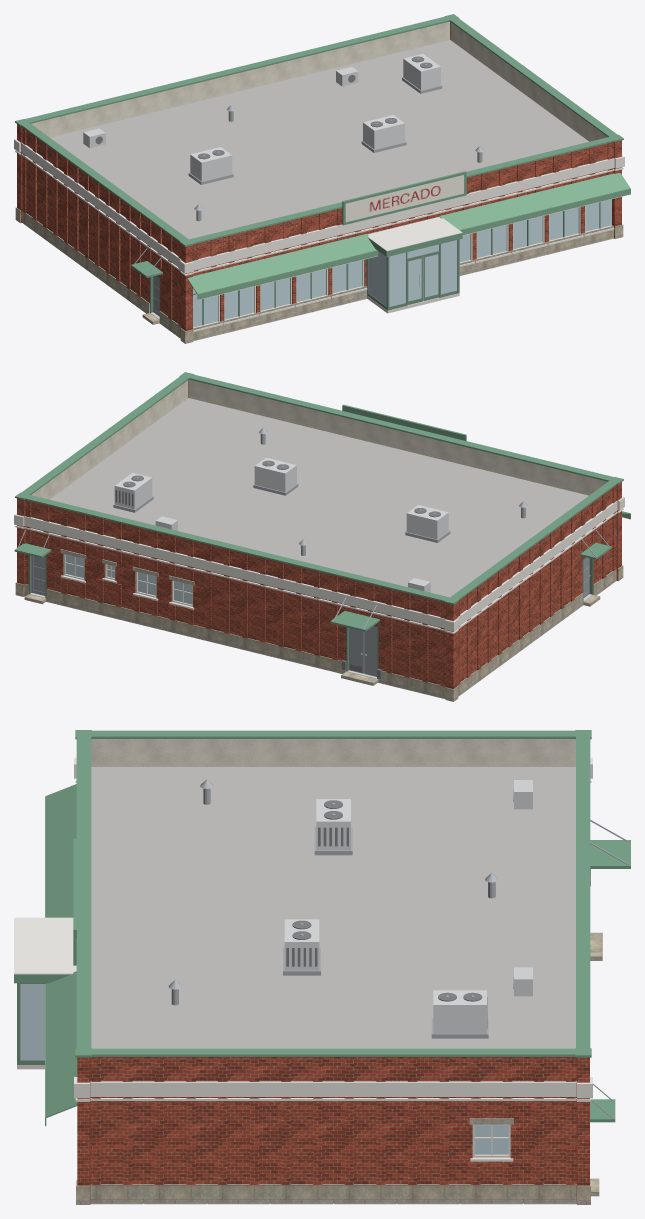
The model's file is building_assembled.glb.
3 views of the same model, one above another, from view 1: azimuth 30°, elevation 25°; view 2: azimuth 150°, elevation 25°; view 3: azimuth 270°, elevation 25° (orthographic). The views are drawn at different scales.
Visible parts, largest first — view 1: building_roof, building_brick, building_trim, building_glass, building_plaster, building_coping, building_canvas, building_stone, building_unit, building_sign, building_frame2, building_frame (+3 smaller); view 2: building_roof, building_brick, building_coping, building_plaster, building_trim, building_stone, building_unit, building_door, building_glass, building_steel, building_dark, building_frame (+2 smaller); view 3: building_roof, building_brick, building_coping, building_plaster, building_trim, building_stone, building_canvas, building_unit, building_glass, building_steel, building_dark, building_metal.
Boxes of the visible parts, <box> form: building_roof: <box>50,40,588,239</box>; building_brick: <box>17,22,621,330</box>; building_trim: <box>14,138,630,331</box>; building_glass: <box>193,199,611,327</box>; building_plaster: <box>31,21,613,341</box>; building_coping: <box>15,14,623,277</box>; building_canvas: <box>187,172,630,299</box>; building_stone: <box>15,207,623,343</box>; building_unit: <box>190,54,440,181</box>; building_sign: <box>345,175,464,222</box>; building_frame2: <box>150,202,600,325</box>; building_frame: <box>193,205,612,328</box>; building_roof: <box>50,398,588,597</box>; building_brick: <box>17,380,621,688</box>; building_coping: <box>14,372,623,631</box>; building_plaster: <box>31,379,607,699</box>; building_trim: <box>14,497,630,633</box>; building_stone: <box>15,549,623,701</box>; building_unit: <box>114,457,448,539</box>; building_door: <box>31,556,589,676</box>; building_glass: <box>65,555,192,604</box>; building_steel: <box>17,427,609,628</box>; building_dark: <box>115,460,440,678</box>; building_frame: <box>63,554,192,606</box>; building_roof: <box>91,767,575,1048</box>; building_brick: <box>77,1057,589,1203</box>; building_coping: <box>14,730,630,1122</box>; building_plaster: <box>91,739,576,1204</box>; building_trim: <box>14,757,592,1161</box>; building_stone: <box>76,869,602,1204</box>; building_canvas: <box>45,784,77,1125</box>; building_unit: <box>284,799,486,1033</box>; building_glass: <box>20,984,508,1154</box>; building_steel: <box>168,779,628,1118</box>; building_dark: <box>286,789,513,1028</box>; building_metal: <box>514,780,532,996</box>.
Size of the model in its own units: 25.1 by 5.57 by 19.5.
20 materials, 4 textured.
